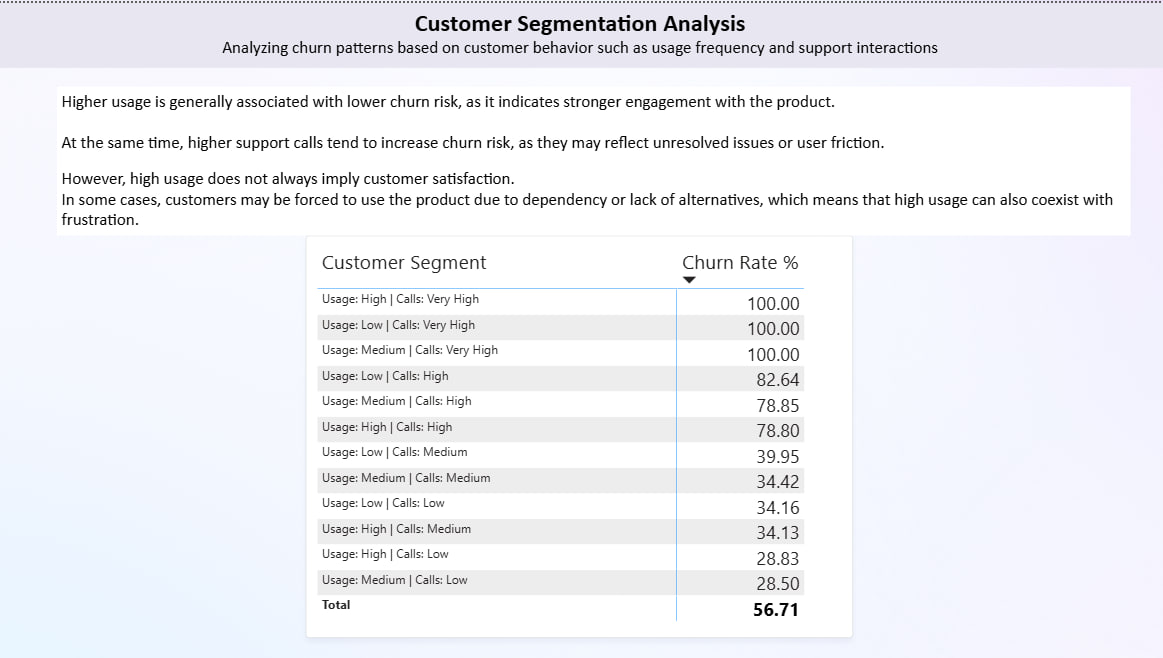

Layout of this report page (visuals, bound fields, positions):
{"tool":"powerbi","page":{"name":"Customer Segmentation","canvas":[1280,720],"ordinal":4},"visuals":[{"type":"pivotTable","fields":{"Rows":["customer_churn_dataset-training-master.Customer Segment"],"Values":["customer_churn_dataset-training-master.Churn Rate %"]},"box":[338.9,255.2,601,441.9],"z":0},{"type":"textbox","box":[0,0,1280.3,71.4],"z":1000},{"type":"textbox","box":[65.9,91.9,1178.7,163.3],"z":2000}]}

Visuals, with their boxes in screenshot pixels (x1, y1, x2, y2), scaled from the page's 1280x720 canvas onto the 1163x658 screenshot:
pivotTable - customer_churn_dataset-training-master.Customer Segment x customer_churn_dataset-training-master.Churn Rate %: (x1=308, y1=233, x2=854, y2=637)
textbox: (x1=0, y1=0, x2=1162, y2=65)
textbox: (x1=60, y1=84, x2=1131, y2=233)
